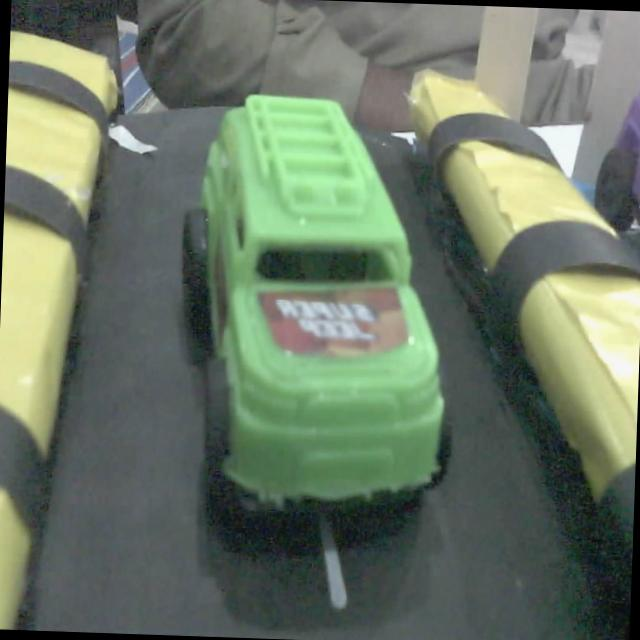OneCar: (182, 96, 449, 509)
